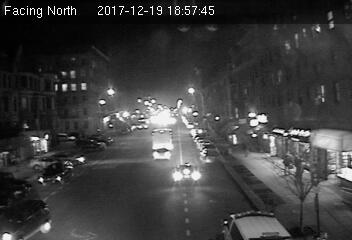car: (173, 162, 202, 184), (152, 147, 172, 160)
police: (219, 208, 298, 240)
truck: (150, 128, 174, 153)
